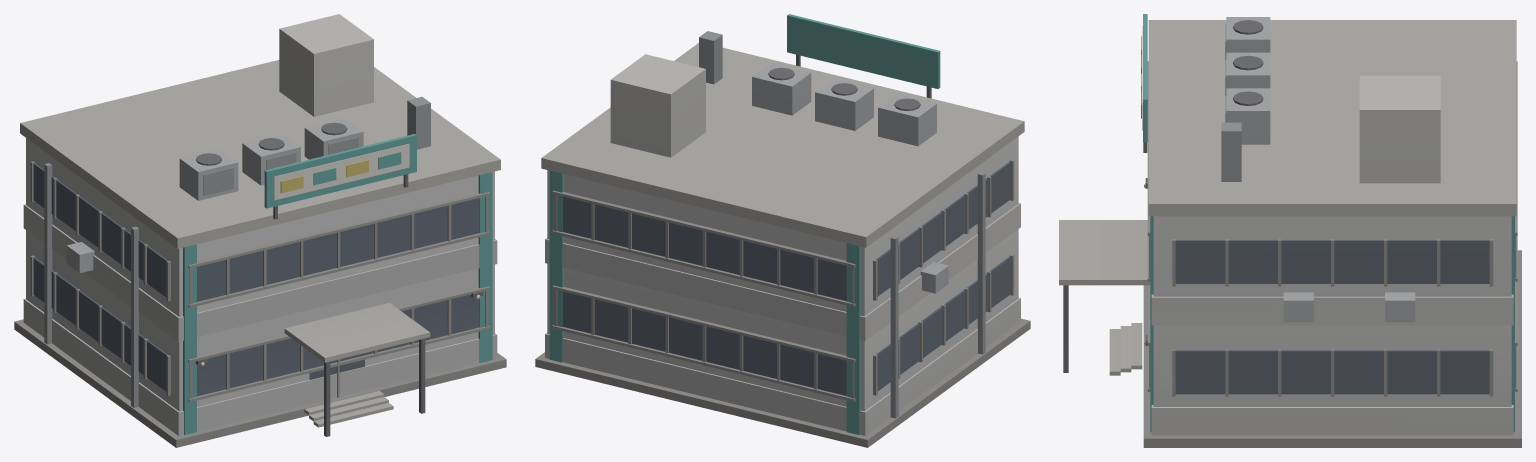
File: fc_office.glb
The picture shows the model from 3 angles, left to right: view 1: azimuth 30°, elevation 25°; view 2: azimuth 150°, elevation 25°; view 3: azimuth 270°, elevation 25°; orthographic projection. The views are drawn at different scales.
Parts seen in each view (by area): view 1: fc_office; view 2: fc_office; view 3: fc_office.
Part boxes in pixels (x1,y1,x2,y2): fc_office: (14,14,506,447); fc_office: (535,14,1030,447); fc_office: (1059,14,1521,447).
Size of the model in its own units: 13.8 by 10.31 by 13.7.
